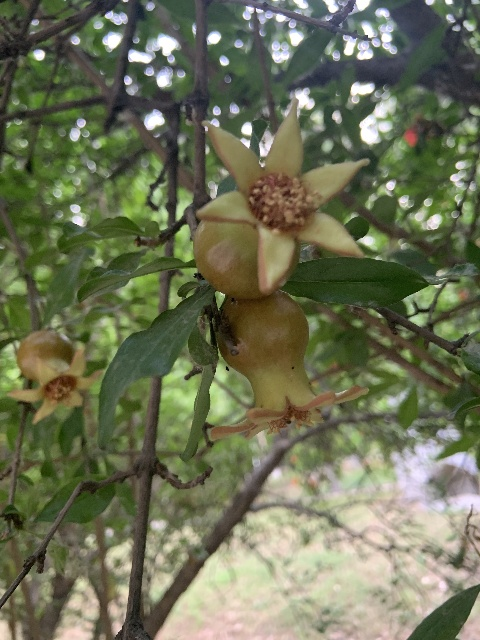early-fruit: (193, 93, 367, 298), (207, 291, 366, 442), (5, 330, 103, 426)
